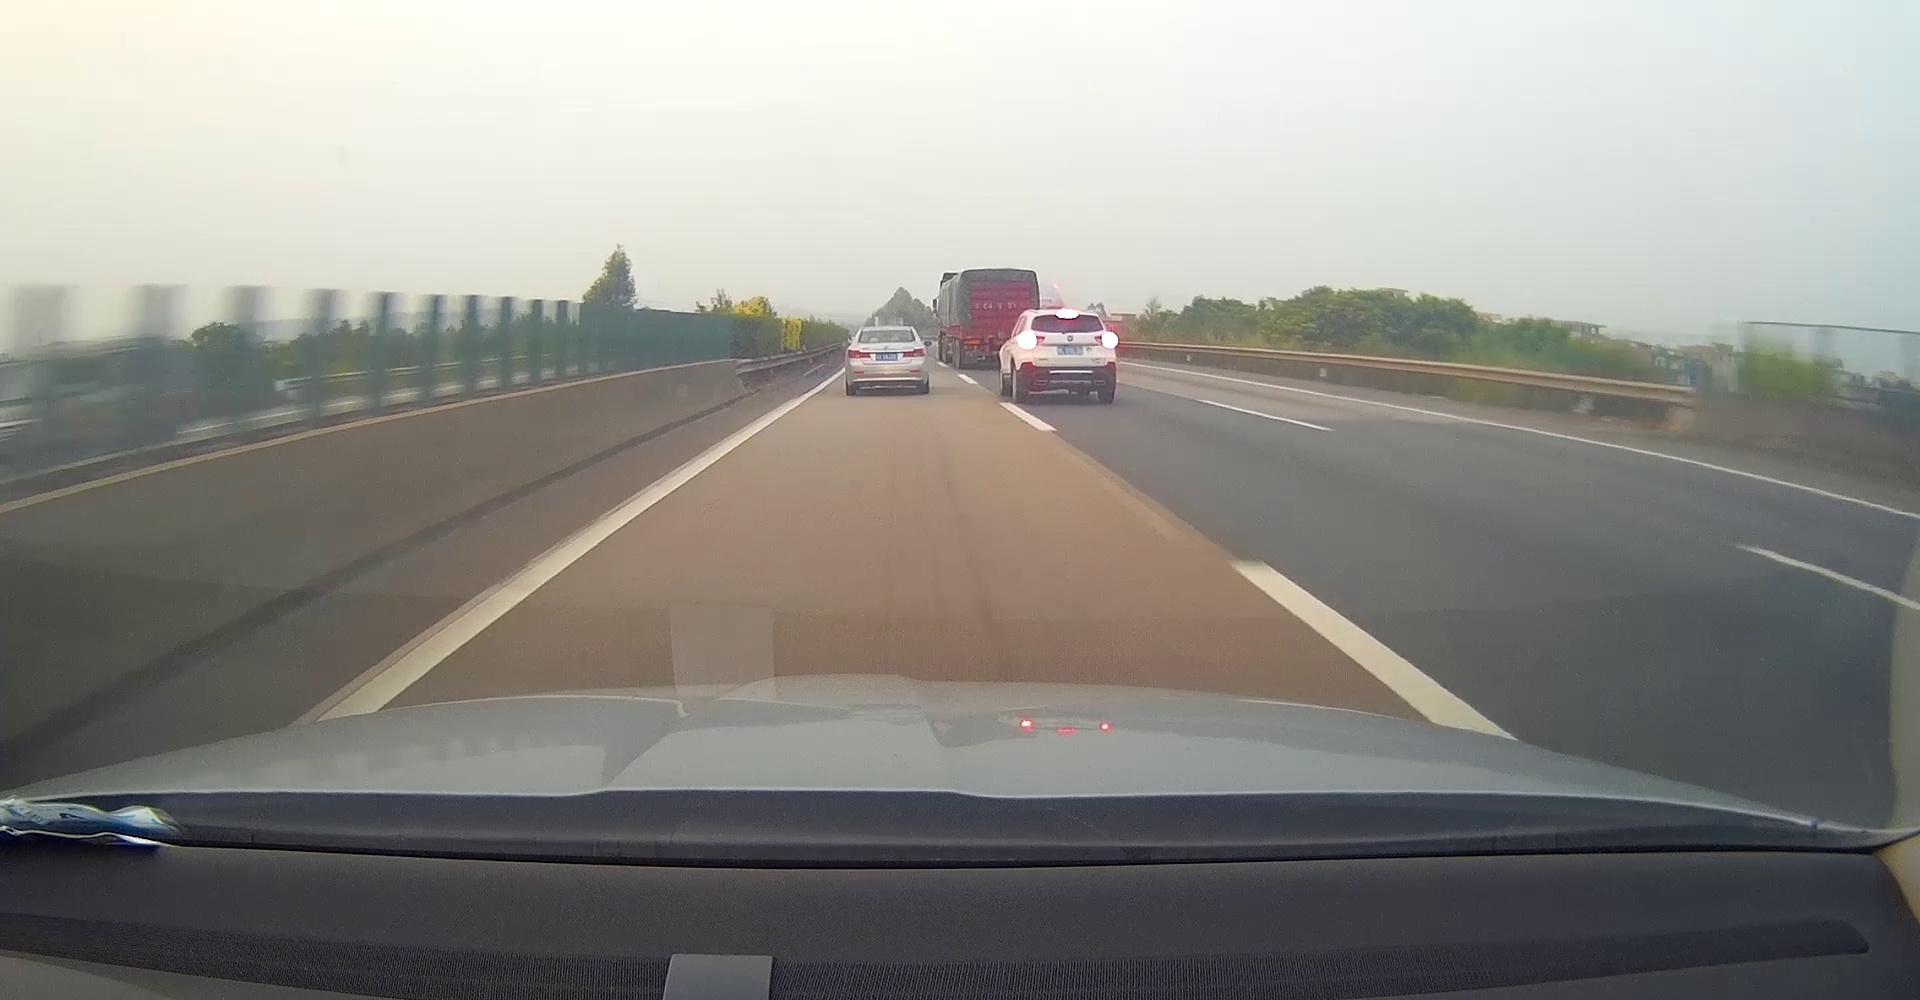L_light: (1020, 335, 1044, 345), (847, 350, 870, 358)
R_light: (903, 348, 924, 357), (1095, 335, 1114, 344)
T_light: (1060, 313, 1076, 319), (883, 331, 893, 332)
day-brake: (1017, 311, 1116, 404)
day-no: (844, 327, 927, 396)
